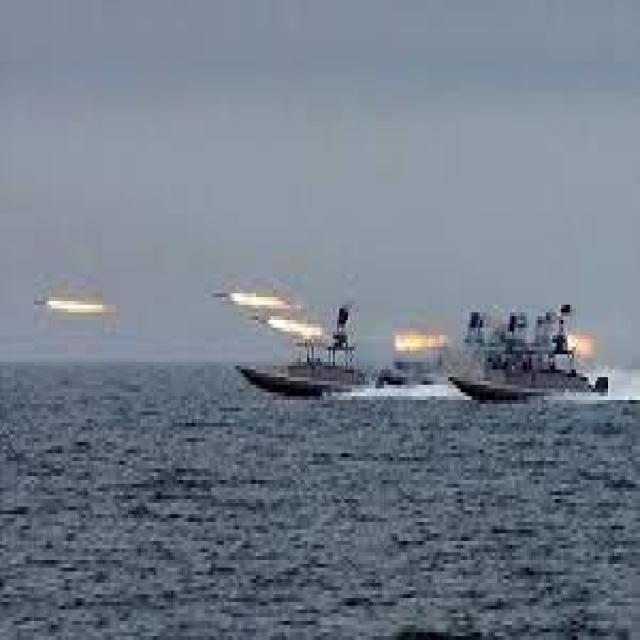navalvessels: (432, 312, 600, 404)
